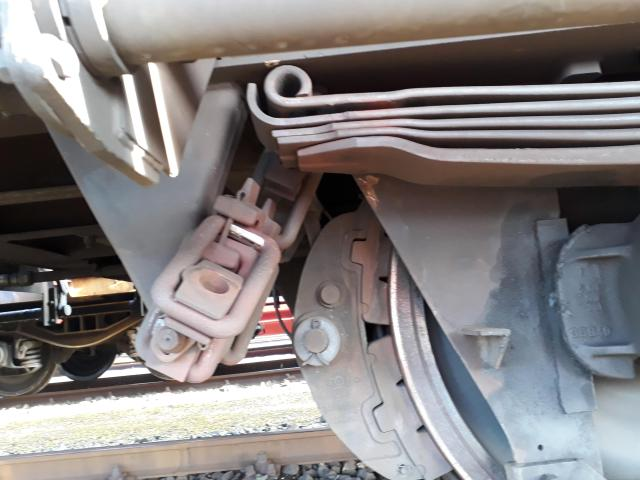blattfederww: (236, 60, 640, 172)
